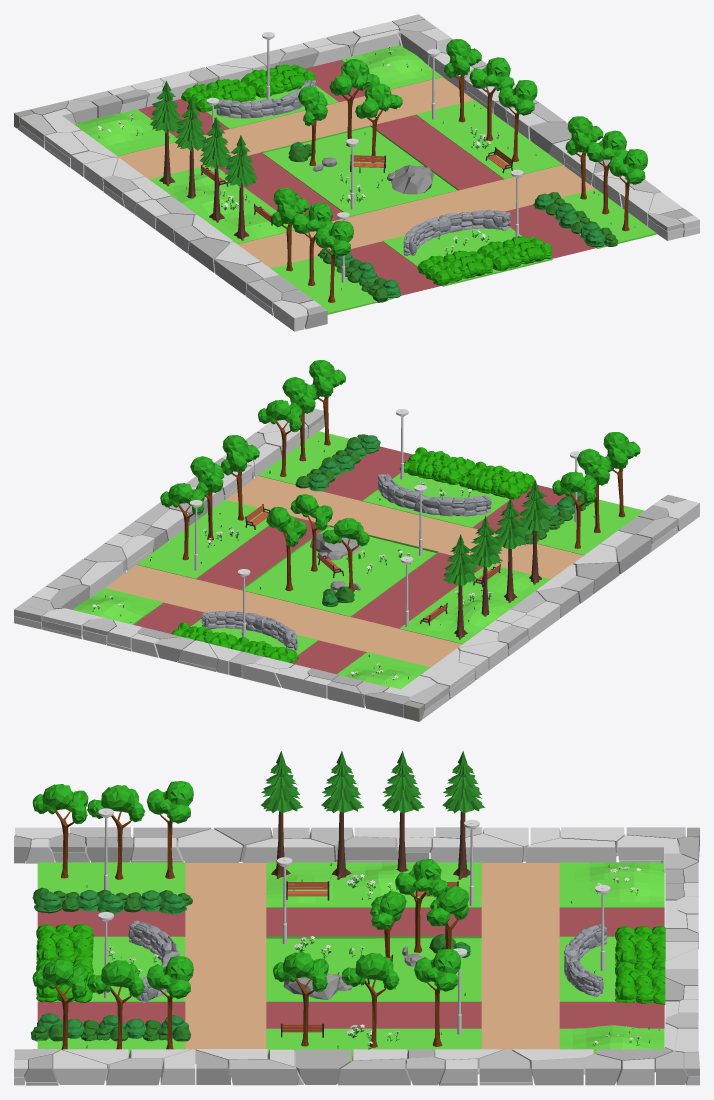
Rendered from ParkTrail_B.fbx.
3 views of the same model, one above another, from view 1: azimuth 30°, elevation 25°; view 2: azimuth 150°, elevation 25°; view 3: azimuth 270°, elevation 25° (orthographic). The views are drawn at different scales.
Parts seen in each view (by area): view 1: Plane.001, Plane, TreeA, Bush.002, Bush.015, Stonewall.002, Stonewall.005, TreeD, TreeD.002, TreeD.004, TreeD.011, TreeD.001 (+32 smaller); view 2: Plane, Plane.001, TreeA, Bush.002, Stonewall.002, Stonewall.005, Bush.015, TreeD.003, TreeD.008, TreeD.011, TreeD.006, TreeD.009 (+32 smaller); view 3: Plane, Plane.001, TreeA, Bush.015, Bush.002, Plane.002_cell.029, Plane.002_cell.028, TreeD.003, Stonewall.005, TreeD.008, TreeD.011, TreeD.006 (+61 smaller).
Boxes of the visible parts, left/top/right/bottom form: Plane.001: left=74, top=45, right=656, bottom=314; Plane: left=118, top=60, right=597, bottom=295; TreeA: left=150, top=80, right=257, bottom=240; Bush.002: left=417, top=236, right=552, bottom=285; Bush.015: left=181, top=64, right=315, bottom=112; Stonewall.002: left=403, top=209, right=511, bottom=255; Stonewall.005: left=216, top=80, right=316, bottom=118; TreeD: left=329, top=59, right=379, bottom=146; TreeD.002: left=469, top=57, right=514, bottom=140; TreeD.004: left=355, top=83, right=402, bottom=162; TreeD.011: left=609, top=149, right=647, bottom=231; TreeD.001: left=444, top=39, right=481, bottom=122; Plane: left=105, top=446, right=583, bottom=674; Plane.001: left=73, top=431, right=644, bottom=689; TreeA: left=443, top=479, right=552, bottom=639; Bush.002: left=399, top=447, right=534, bottom=499; Stonewall.002: left=377, top=474, right=491, bottom=516; Stonewall.005: left=201, top=611, right=297, bottom=651; Bush.015: left=171, top=622, right=298, bottom=663; TreeD.003: left=220, top=435, right=259, bottom=520; TreeD.008: left=603, top=432, right=640, bottom=517; TreeD.011: left=309, top=360, right=345, bottom=445; TreeD.006: left=552, top=471, right=596, bottom=548; TreeD.009: left=258, top=399, right=302, bottom=476; Plane: left=37, top=863, right=664, bottom=1063; Plane.001: left=37, top=862, right=664, bottom=1061; TreeA: left=260, top=751, right=485, bottom=879; Bush.015: left=615, top=926, right=665, bottom=1004; Bush.002: left=36, top=924, right=93, bottom=1002; Plane.002_cell.029: left=525, top=838, right=616, bottom=862; Plane.002_cell.028: left=242, top=838, right=334, bottom=862; TreeD.003: left=273, top=952, right=328, bottom=1046; Stonewall.005: left=564, top=924, right=607, bottom=996; TreeD.008: left=32, top=784, right=88, bottom=878; TreeD.011: left=32, top=959, right=88, bottom=1049; TreeD.006: left=146, top=781, right=193, bottom=878.
Size of the model in its own units: 28.3 by 7.55 by 33.98.
